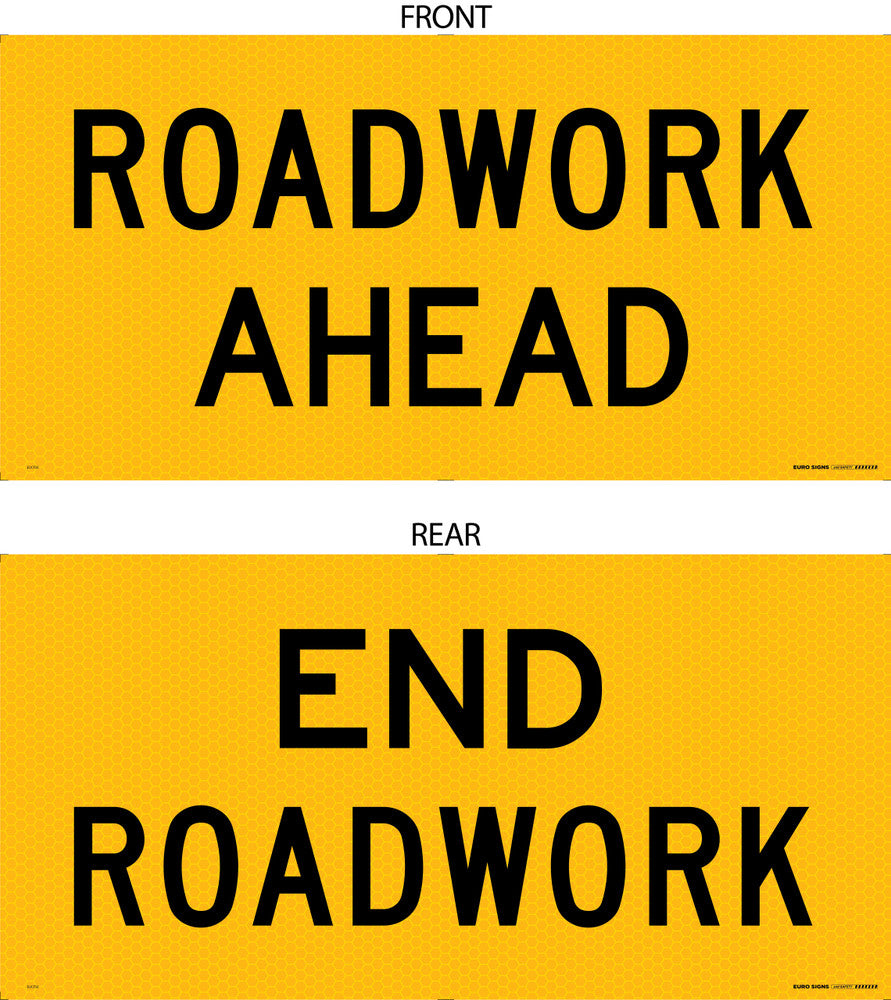Road_workahead: (16, 68, 884, 437)
